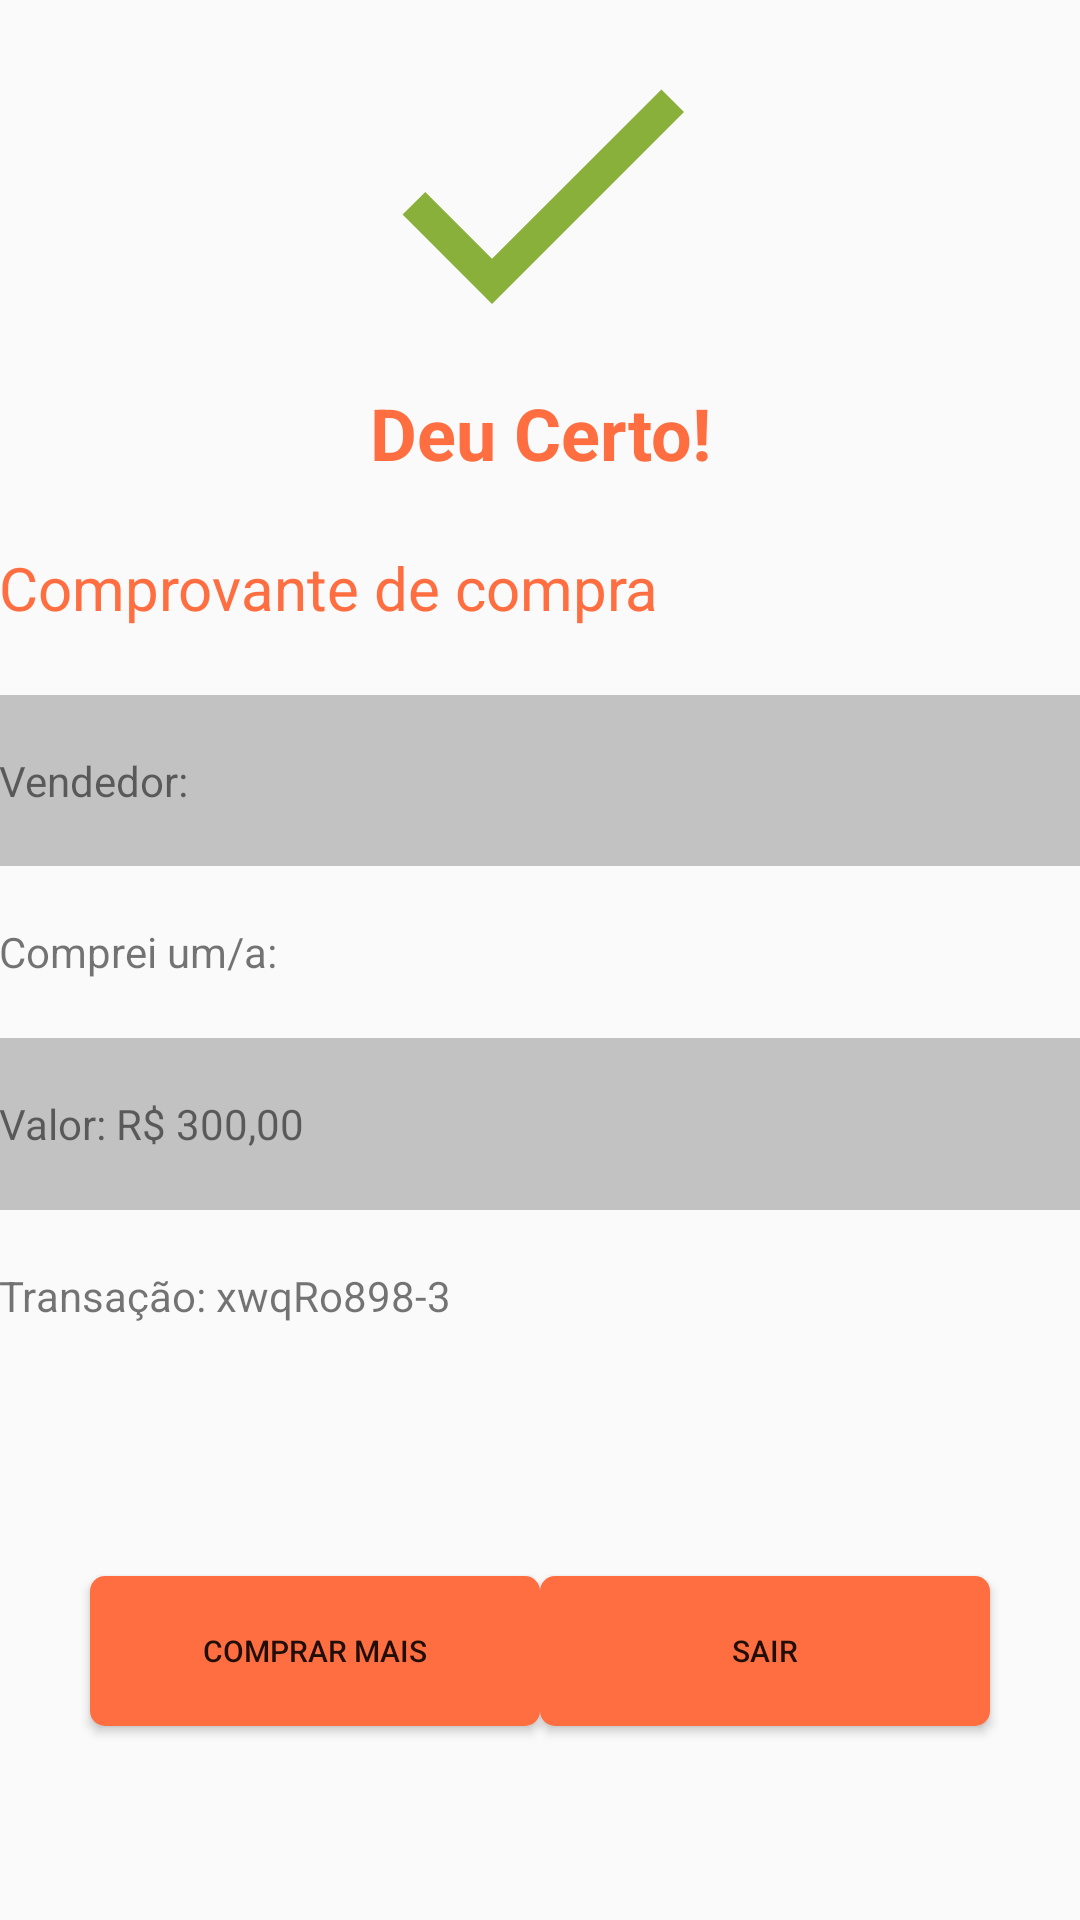

Screen size 1080 × 1920. Icon name, then its box in pixels as [x1, y1, x2, y2]:
check: [402, 89, 684, 304]
